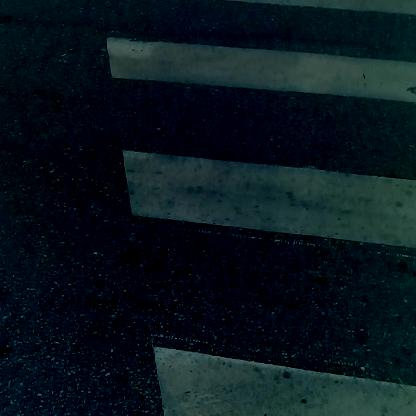crosswalk: (94, 7, 416, 416)
